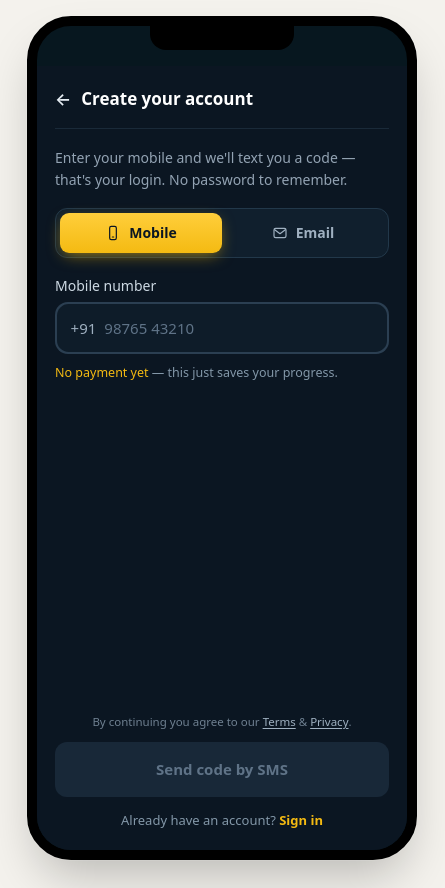
CreateAccount › switching to Email shows an email field
The width and height of the screenshot is (445, 888).
Click the tab "Email" at (303, 233), box [222,213,384,253]
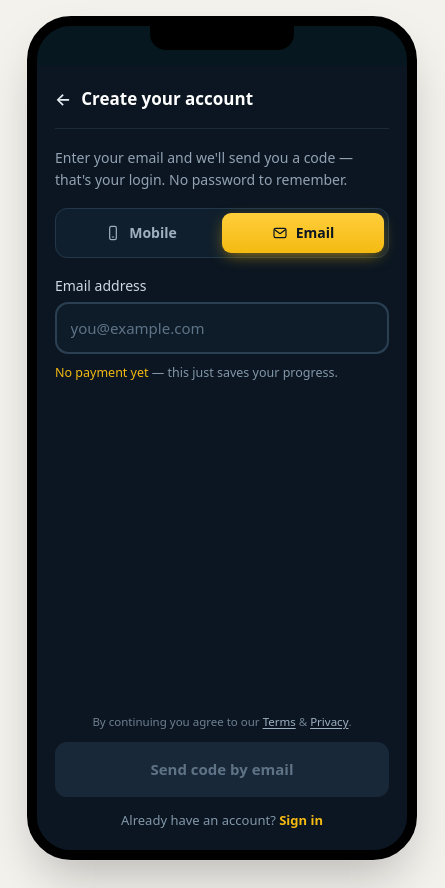
Check: the field with placeholder "you@example.com" is shown, box [71,317,347,339]
Check: the button "Send code by email" is shown, box [55,742,389,796]
